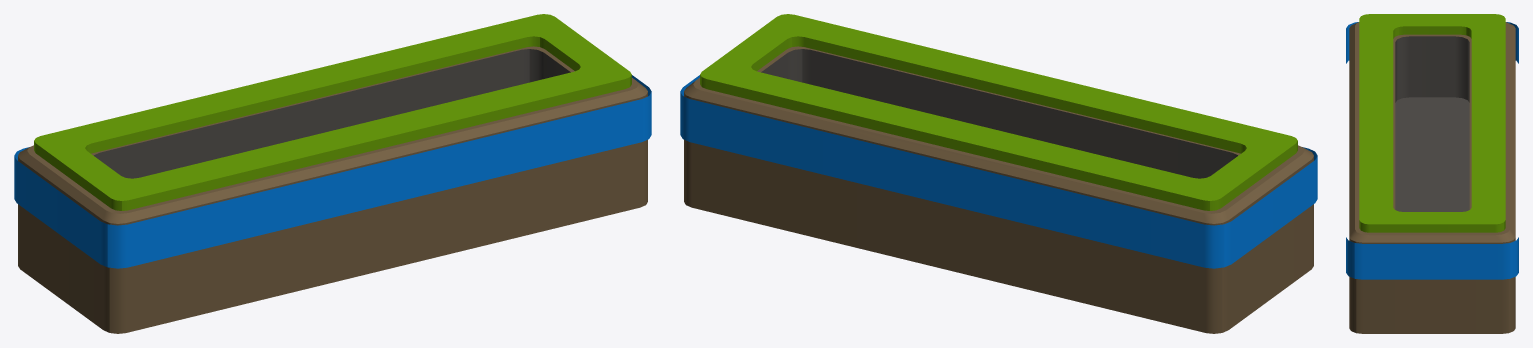
The model's file is TargetElementRectangle.fbx.
3 renders of one model, left to right at view 1: azimuth 30°, elevation 25°; view 2: azimuth 150°, elevation 25°; view 3: azimuth 270°, elevation 25°, orthographic. The views are drawn at different scales.
Visible parts, largest first — view 1: base, grass, ring; view 2: base, grass, ring; view 3: base, grass, ring.
Part boxes in pixels (bbox=[...]): base: bbox=[18, 46, 647, 333]; grass: bbox=[34, 14, 631, 210]; ring: bbox=[14, 75, 651, 268]; base: bbox=[684, 46, 1313, 333]; grass: bbox=[700, 14, 1297, 210]; ring: bbox=[680, 75, 1317, 268]; base: bbox=[1349, 22, 1515, 333]; grass: bbox=[1359, 14, 1505, 232]; ring: bbox=[1346, 22, 1518, 279].
Size of the model in its own units: 1.15 by 0.253 by 0.3779.
